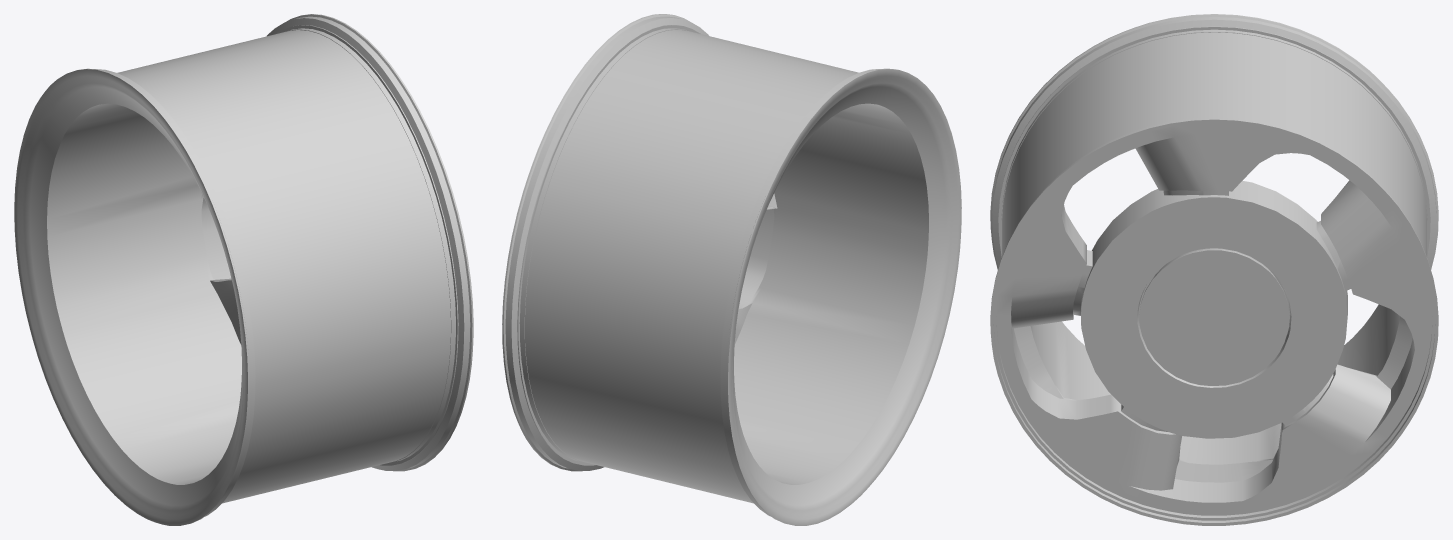
File: classic-20.glb
3 views of the same model, side by side, from view 1: azimuth 30°, elevation 25°; view 2: azimuth 150°, elevation 25°; view 3: azimuth 270°, elevation 25° (orthographic). The views are drawn at different scales.
Parts seen in each view (by area): view 1: Roda; view 2: Roda; view 3: Roda.
Part boxes in pixels (x1,y1,x2,y2): Roda: [14, 14, 473, 525]; Roda: [502, 14, 961, 525]; Roda: [990, 14, 1438, 525].
Bounding box in the file's own units: 0.255 × 0.4576 × 0.4577.
1 material, 1 textured.
